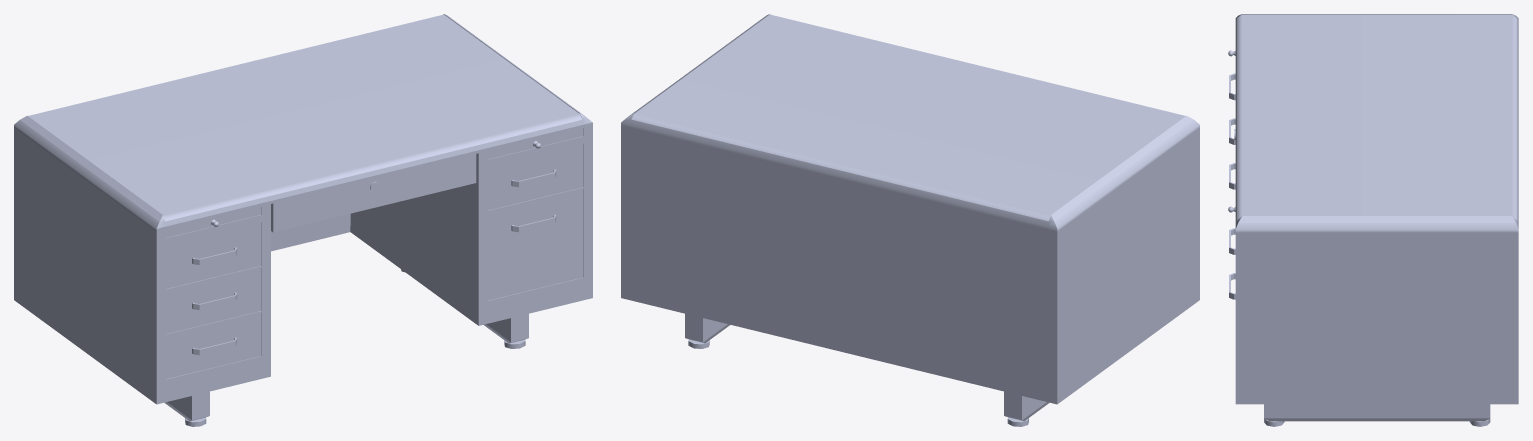
Rendered from DeskBF.fbx.
3 renders of one model, left to right at view 1: azimuth 30°, elevation 25°; view 2: azimuth 150°, elevation 25°; view 3: azimuth 270°, elevation 25°, orthographic.
Visible parts, largest first — view 1: desk1, middleDrawer1, deskLegs1; view 2: desk1, deskLegs1; view 3: desk1, deskLegs1.
Part boxes in pixels (x1,y1,x2,y2): desk1: (14, 14, 592, 404); middleDrawer1: (271, 154, 476, 232); deskLegs1: (164, 269, 528, 426); desk1: (621, 14, 1199, 404); deskLegs1: (685, 313, 1049, 426); desk1: (1235, 14, 1518, 404); deskLegs1: (1264, 404, 1490, 426).
Size of the model in its own units: 152 by 77 by 88.22.
